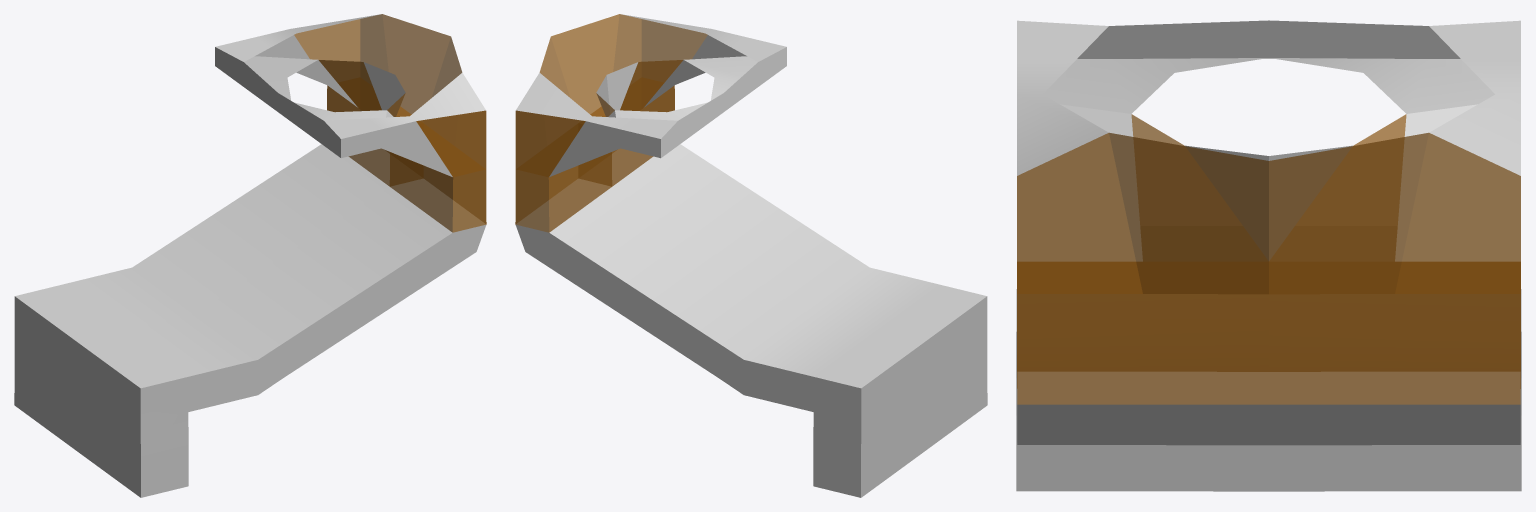
The model's file is RPZTransparent-lower2.fbx.
3 renders of one model, left to right at view 1: azimuth 30°, elevation 25°; view 2: azimuth 150°, elevation 25°; view 3: azimuth 270°, elevation 25°, orthographic. The views are drawn at different scales.
Visible parts, largest first — view 1: ReliefHousing.002; view 2: ReliefHousing.002; view 3: ReliefHousing.002.
Boxes of the visible parts, left/top/right/bottom form: ReliefHousing.002: left=14, top=14, right=486, bottom=497; ReliefHousing.002: left=515, top=14, right=987, bottom=497; ReliefHousing.002: left=1016, top=20, right=1521, bottom=491.
Size of the model in its own units: 4.28 by 3.55 by 2.51.
